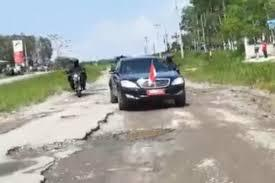Pothole: (2, 140, 103, 183), (99, 122, 184, 141), (83, 92, 112, 106), (52, 111, 84, 122)
